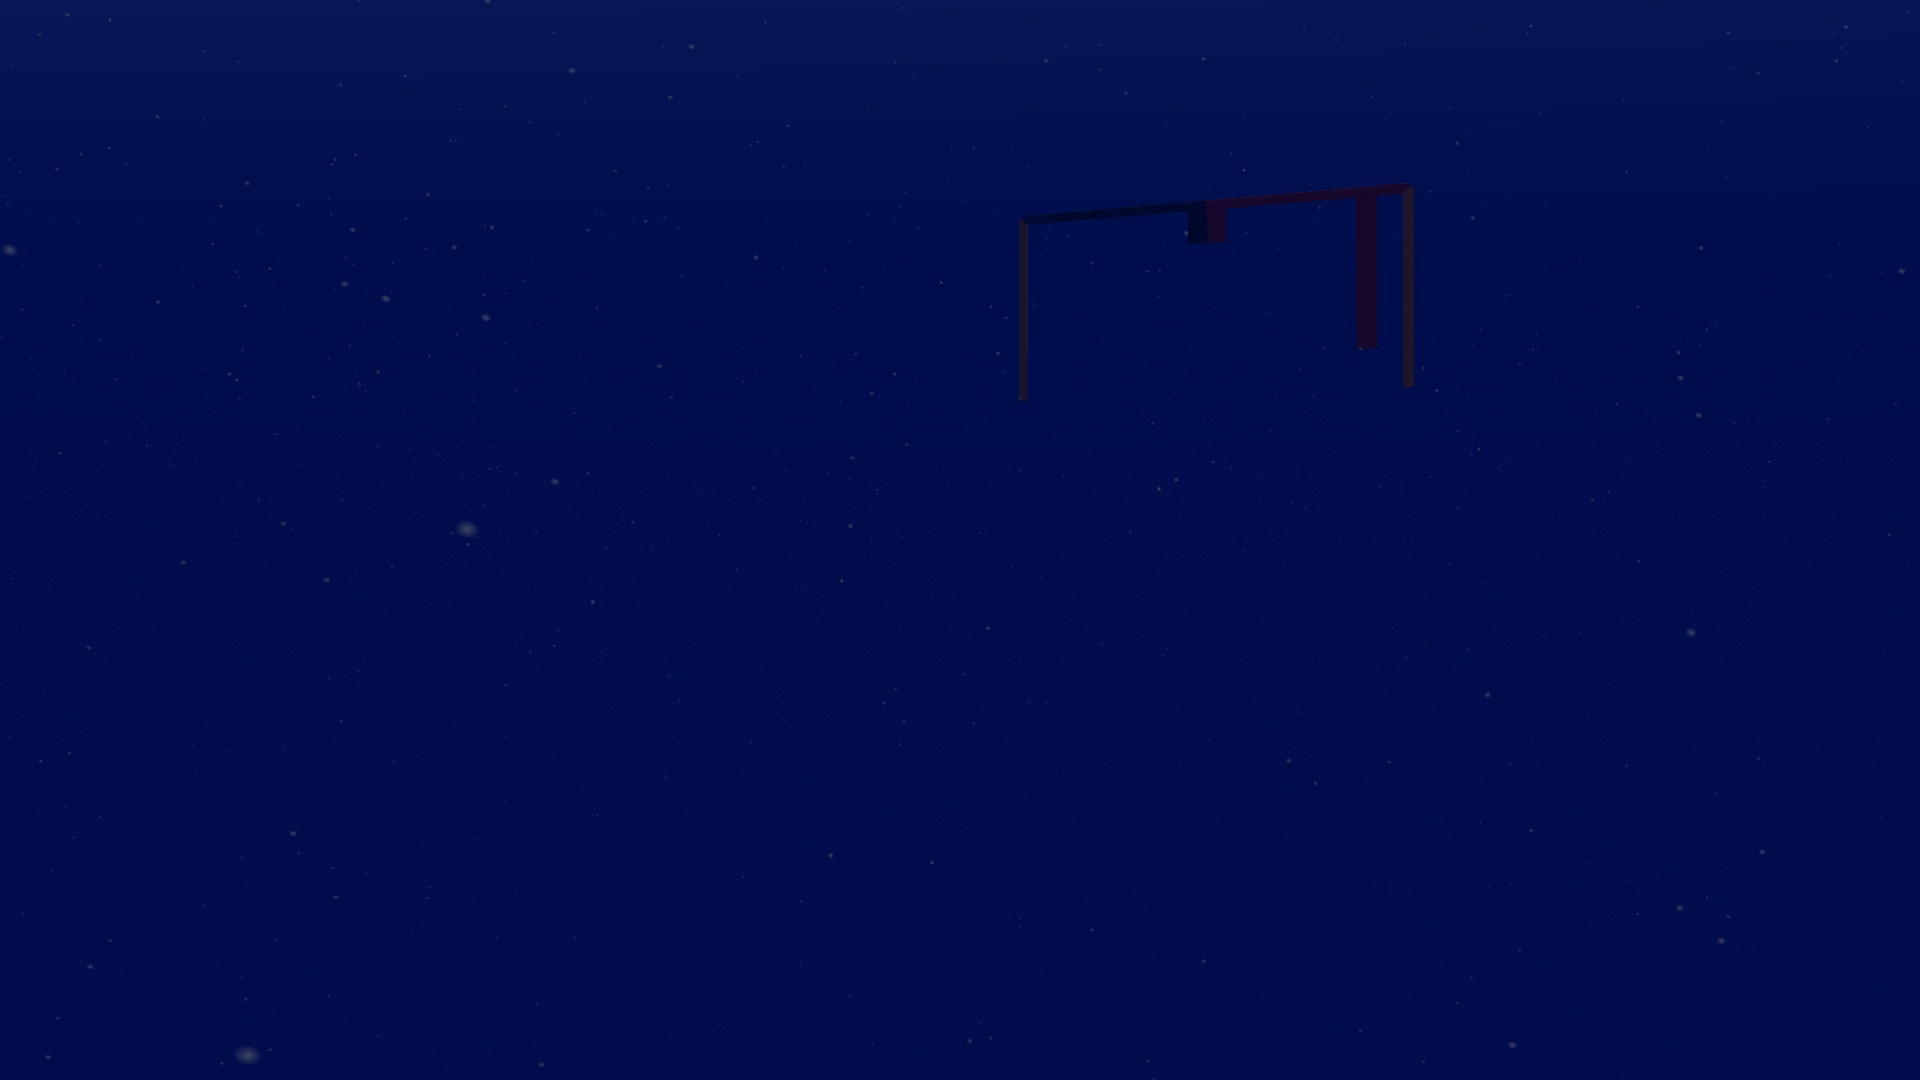Gate: (1013, 179, 1419, 410)
